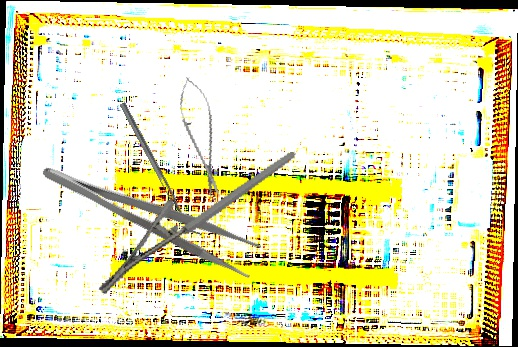Dressing Forceps: (37, 143, 266, 283)
Micro Scissor: (172, 73, 231, 203)
Needle Holder: (75, 151, 319, 296)
Spatula Surgical: (119, 99, 203, 241)
